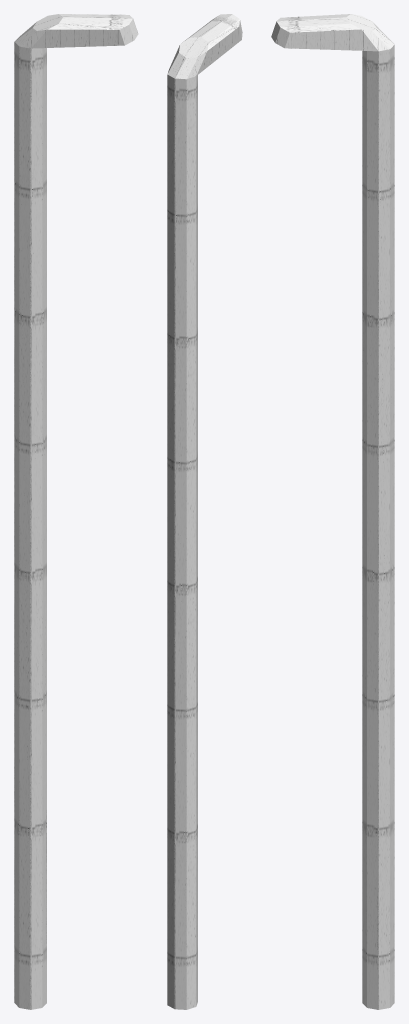
The model's file is PoleLamp.fbx.
The picture shows the model from 3 angles, left to right: view 1: azimuth 90°, elevation 25°; view 2: azimuth 150°, elevation 25°; view 3: azimuth 270°, elevation 25°; orthographic projection. The views are drawn at different scales.
Parts seen in each view (by area): view 1: Barrel.001; view 2: Barrel.001; view 3: Barrel.001.
Part boxes in pixels (x1,y1,x2,y2): Barrel.001: [14, 14, 138, 1009]; Barrel.001: [167, 14, 242, 1009]; Barrel.001: [271, 14, 394, 1009].
Size of the model in its own units: 22.09 by 668 by 76.
Materials: 1 (1 with a texture image).
